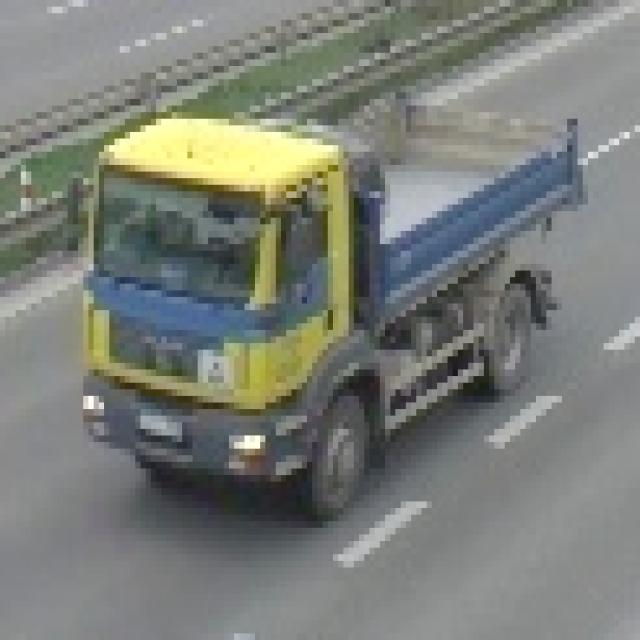truck: (64, 87, 579, 516)
